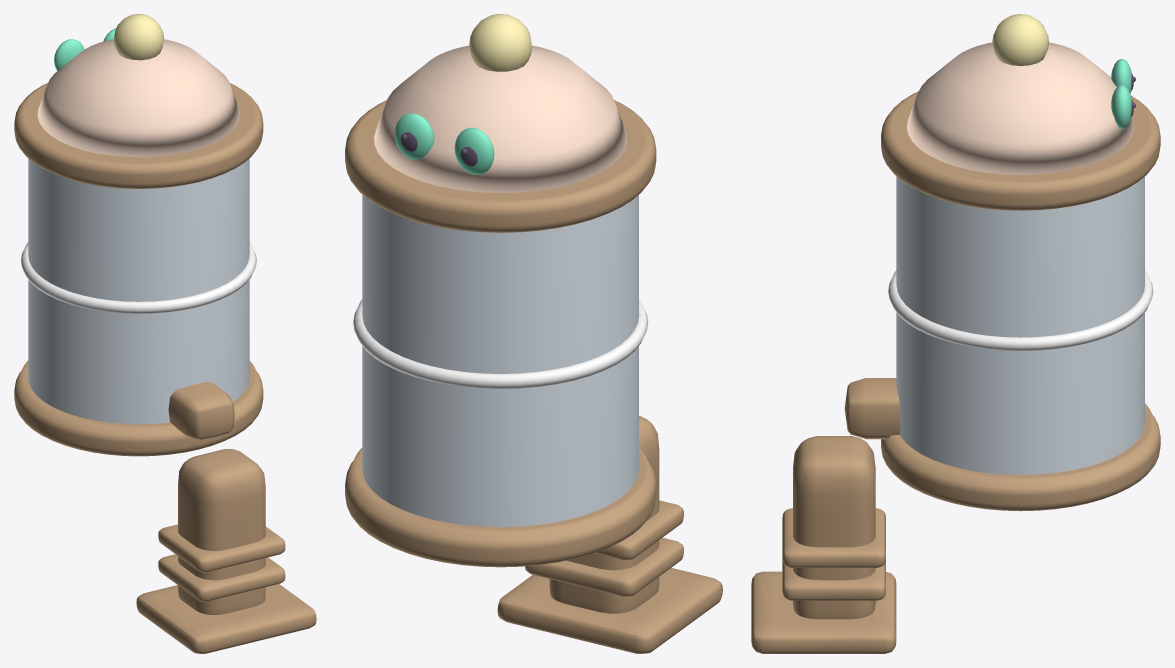
File: CakeStacker.glb
3 views of the same model, side by side, from view 1: azimuth 30°, elevation 25°; view 2: azimuth 150°, elevation 25°; view 3: azimuth 270°, elevation 25° (orthographic). The views are drawn at different scales.
Visible parts, largest first — view 1: Glass, Frame, Dome, Stripe, Beacon, Eyes; view 2: Glass, Frame, Dome, Stripe, Beacon, Eyes; view 3: Glass, Frame, Dome, Stripe, Beacon, Eyes.
Boxes of the visible parts, x1,y1,x2,y2 form: Glass: (28, 158, 249, 424); Frame: (14, 83, 316, 653); Dome: (37, 39, 239, 157); Stripe: (21, 242, 256, 313); Beacon: (113, 14, 163, 60); Eyes: (54, 28, 116, 70); Glass: (362, 195, 638, 527); Frame: (345, 100, 722, 653); Dome: (374, 45, 627, 192); Stripe: (353, 299, 648, 388); Beacon: (469, 14, 531, 71); Eyes: (394, 113, 494, 174); Glass: (896, 176, 1144, 475); Frame: (751, 91, 1160, 653); Dome: (907, 42, 1134, 174); Stripe: (888, 270, 1153, 350); Beacon: (992, 14, 1049, 65); Eyes: (1111, 59, 1131, 128).
Size of the model in its own units: 5.4 by 12.95 by 7.9.
